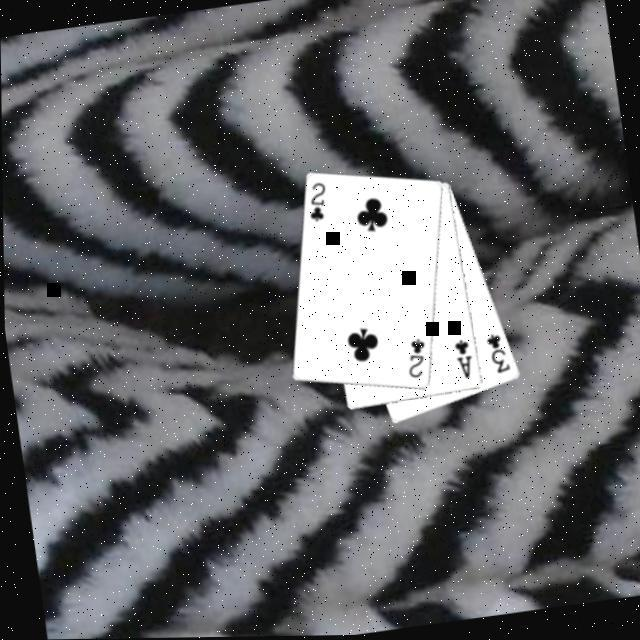2C: (400, 334, 432, 381), (302, 178, 333, 226)
3C: (482, 329, 513, 378)
AC: (451, 336, 476, 382)
